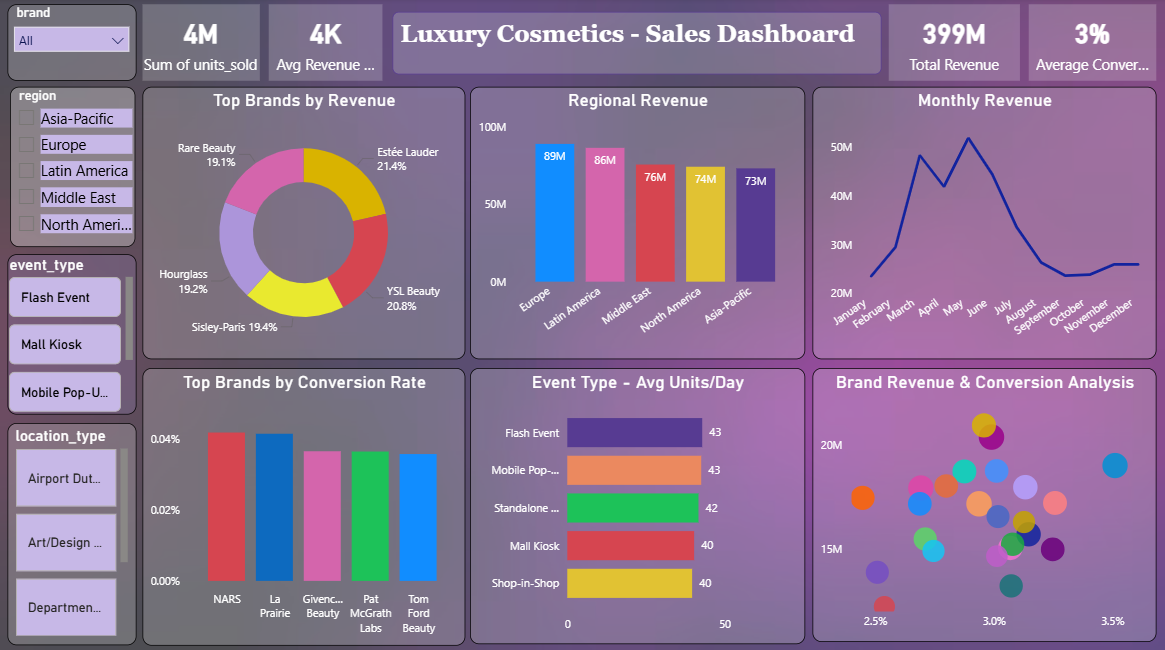

The dashboard page shown, as its layout file describes it:
{"tool":"powerbi","page":{"name":"Page 1","canvas":[1280,720],"ordinal":0},"visuals":[{"type":"card","fields":{"Values":["popups.Total Revenue"]},"box":[975.6,6.9,144.1,83.7],"z":0},{"type":"card","fields":{"Values":["Sum(popups.units_sold)"]},"box":[156.4,6.9,129,83.7],"z":1000},{"type":"card","fields":{"Values":["popups.Avg Revenue per Day"]},"box":[295,6.9,124.9,83.7],"z":2000},{"type":"card","fields":{"Values":["popups.Average Conversion Rate"]},"box":[1129.3,6.9,140,83.7],"z":3000},{"type":"donutChart","title":"Top Brands by Revenue","fields":{"Category":["popups.brand"],"Y":["popups.Total Revenue"]},"box":[156.4,97.4,354,299.1],"z":4000},{"type":"columnChart","title":"Regional  Revenue ","fields":{"Category":["popups.region"],"Y":["popups.Total Revenue"]},"box":[516,97.4,367.8,299.1],"z":5000},{"type":"lineChart","title":"Monthly Revenue ","fields":{"Y":["popups.Total Revenue"],"Category":["popups.start_date.Variation.Date Hierarchy.Month"]},"box":[891.9,97.4,377.4,299.1],"z":6000},{"type":"columnChart","title":"Top Brands by Conversion Rate ","fields":{"Category":["popups.brand"],"Y":["popups.Footfall Conversion Rate"]},"box":[155.9,405.6,354.6,304.9],"z":7000},{"type":"barChart","title":"Event Type - Avg Units/Day","fields":{"Category":["popups.event_type"],"Y":["popups.Avg Units Sold per Day"]},"box":[516,406.2,367.8,303.3],"z":8000},{"type":"scatterChart","title":"Brand Revenue  & Conversion Analysis","fields":{"Size":["Sum(popups.units_sold)"],"Series":["popups.brand"],"Y":["popups.Total Revenue"],"X":["popups.Average Conversion Rate"]},"box":[891.9,406.2,377.4,300.5],"z":9000},{"type":"slicer","fields":{"Values":["popups.brand"]},"box":[8.2,6.9,141.3,83.7],"z":10000},{"type":"slicer","fields":{"Values":["popups.region"]},"box":[11,97.4,137.2,175.6],"z":11000},{"type":"advancedSlicerVisual","fields":{"Values":["popups.event_type"]},"box":[8.2,281.3,141.3,175.6],"z":12000},{"type":"advancedSlicerVisual","fields":{"Values":["popups.location_type"]},"box":[8.2,466.6,141.3,244.3],"z":13000},{"type":"textbox","box":[430.9,15.1,536.5,68.6],"z":15000}]}

Visuals, with their boxes in screenshot pixels (x1, y1, x2, y2), scaled from the page's 1280x720 canvas onto the 1165x650 screenshot:
card - popups.Total Revenue: locate(888, 6, 1019, 82)
card - Sum(popups.units_sold): locate(142, 6, 260, 82)
card - popups.Avg Revenue per Day: locate(268, 6, 382, 82)
card - popups.Average Conversion Rate: locate(1028, 6, 1155, 82)
"Top Brands by Revenue" donutChart: locate(142, 88, 465, 358)
"Regional  Revenue " columnChart: locate(470, 88, 804, 358)
"Monthly Revenue " lineChart: locate(812, 88, 1155, 358)
"Top Brands by Conversion Rate " columnChart: locate(142, 366, 465, 641)
"Event Type - Avg Units/Day" barChart: locate(470, 367, 804, 641)
"Brand Revenue  & Conversion Analysis" scatterChart: locate(812, 367, 1155, 638)
slicer - popups.brand: locate(7, 6, 136, 82)
slicer - popups.region: locate(10, 88, 135, 246)
advancedSlicerVisual - popups.event_type: locate(7, 254, 136, 412)
advancedSlicerVisual - popups.location_type: locate(7, 421, 136, 642)
textbox: locate(392, 14, 880, 76)
